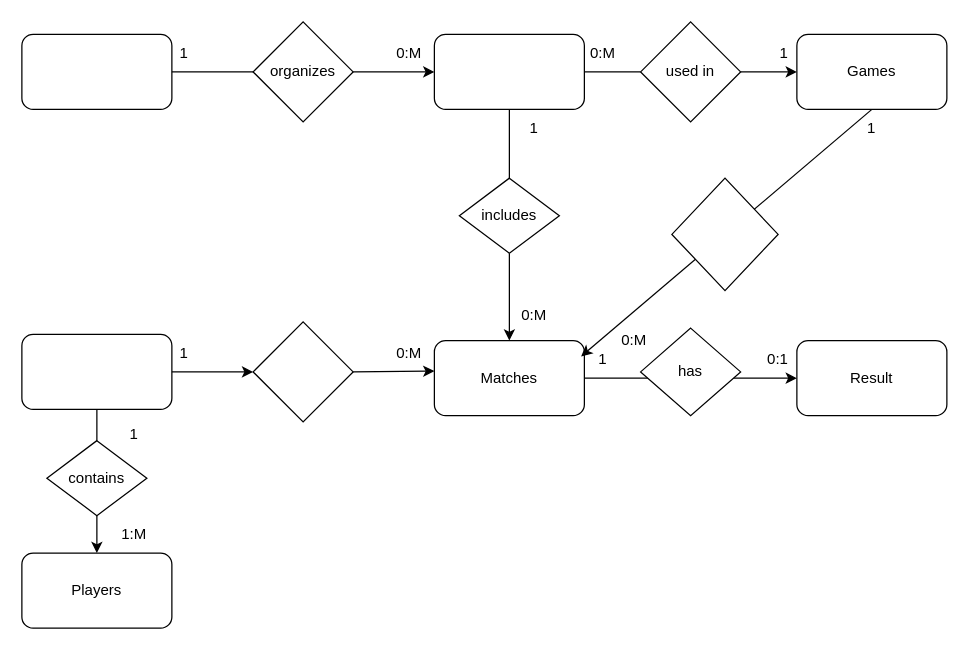
Image size: 969x650. Some labels were removed from this diagram. The shapes that lost their labels are listed below. From the top down, each one's centre as x and y in pixels, then its label:
At (96,71): "Organization".
At (508,71): "Tournament".
At (724,234): "used for".
At (96,371): "Teams".
At (302,371): "plays in".
